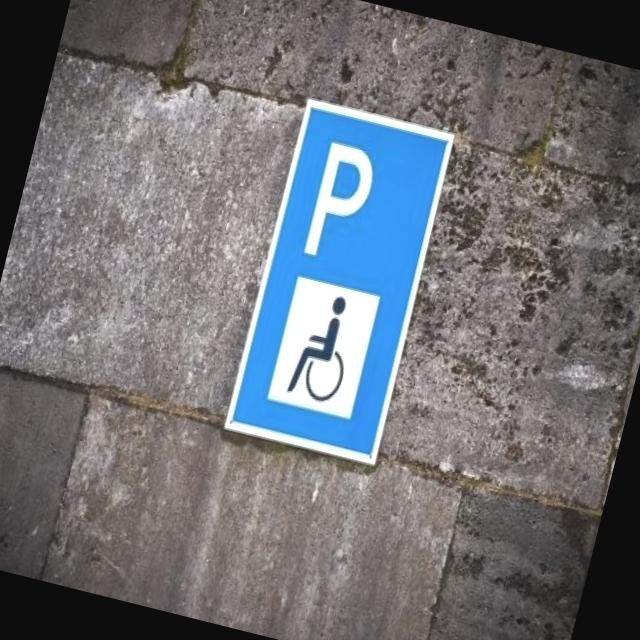symbol_of_access: (268, 276, 376, 415)
